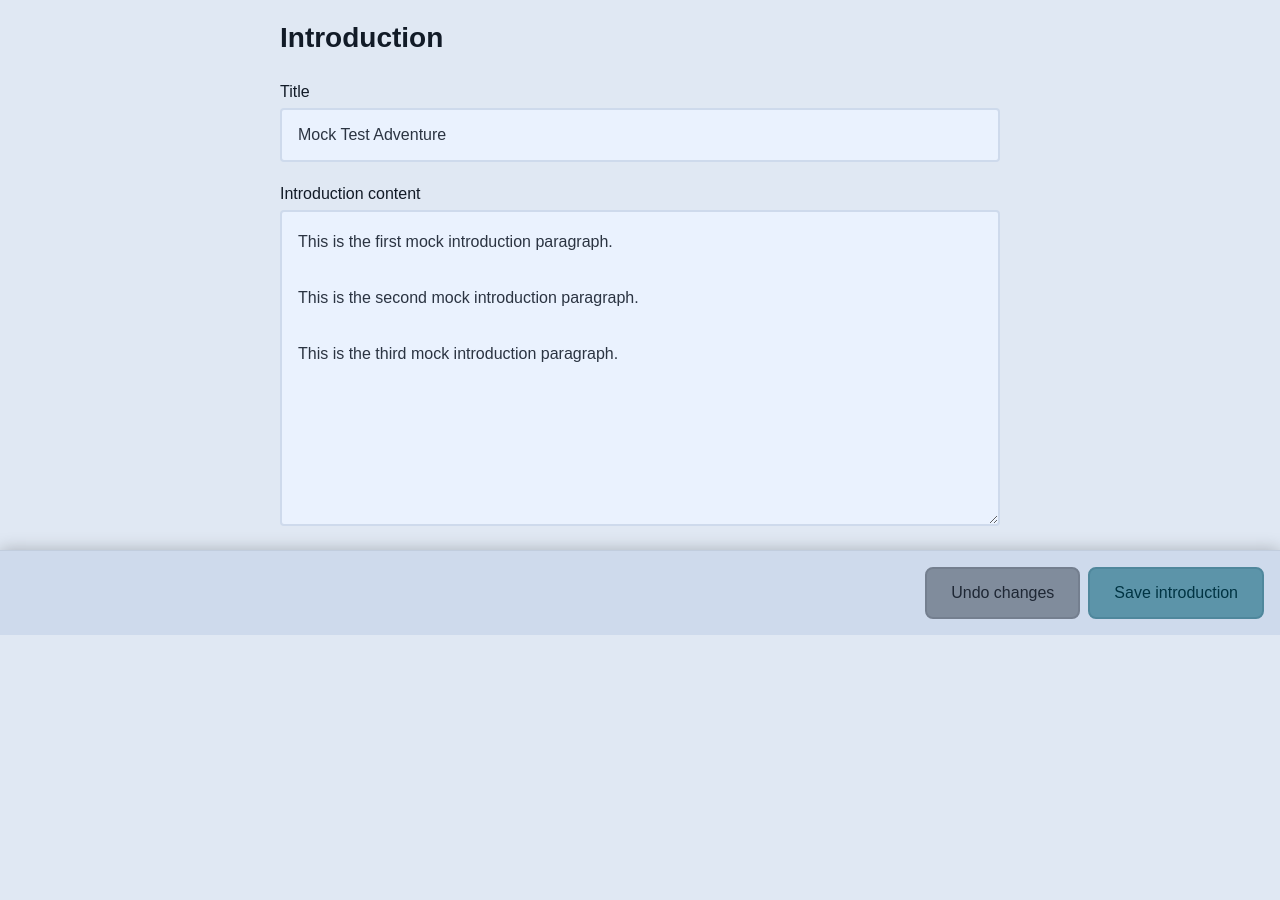
IntroductionEditView Component › Integration with useIntroductionEdit hook › clears errors when user types
Note: Trigger error
Clear the field with test id "introduction-title-input" at (640, 135), box top-left (280, 108), bottom-right (1000, 162)
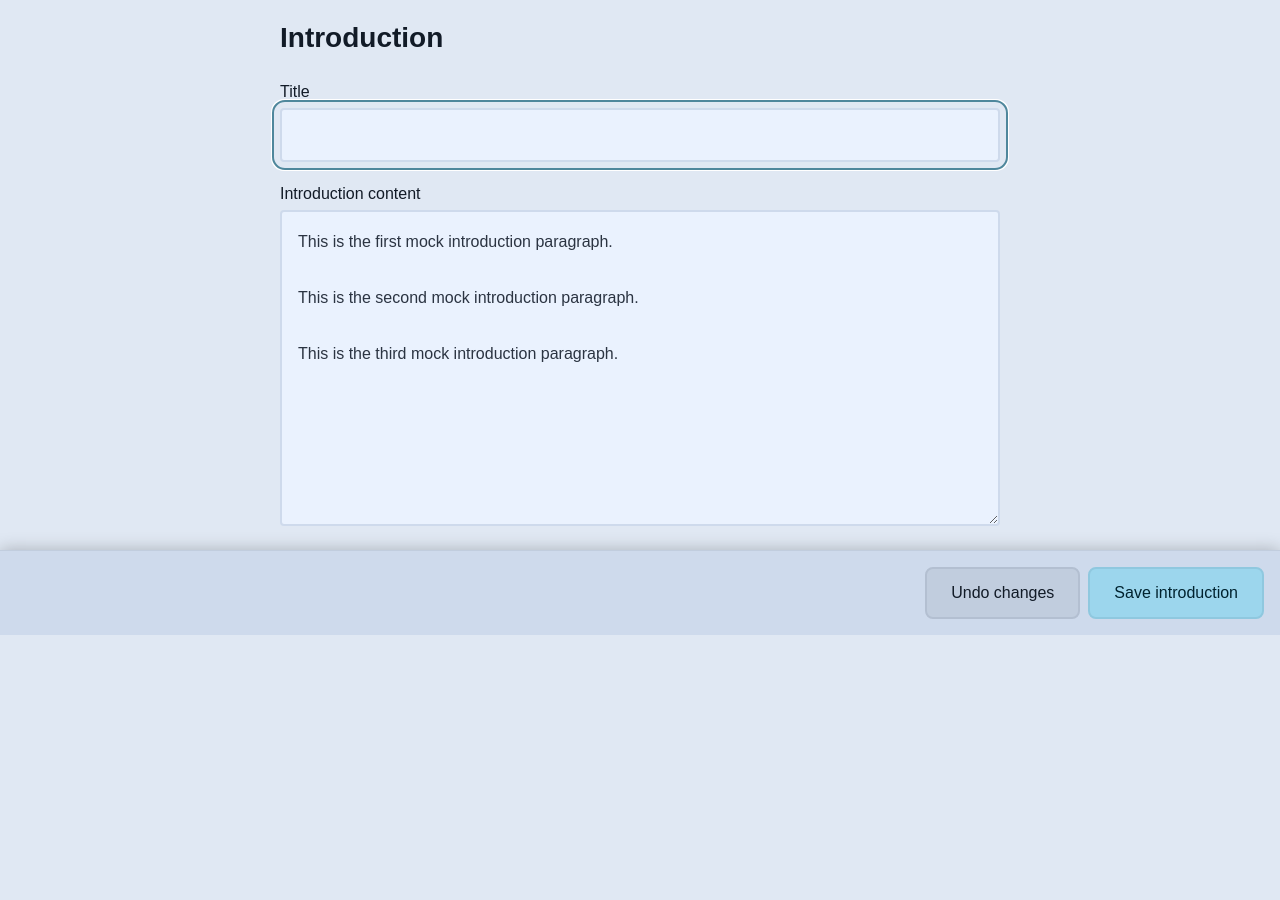
Click the button "Save introduction" at (1176, 593), box top-left (1088, 567), bottom-right (1264, 619)
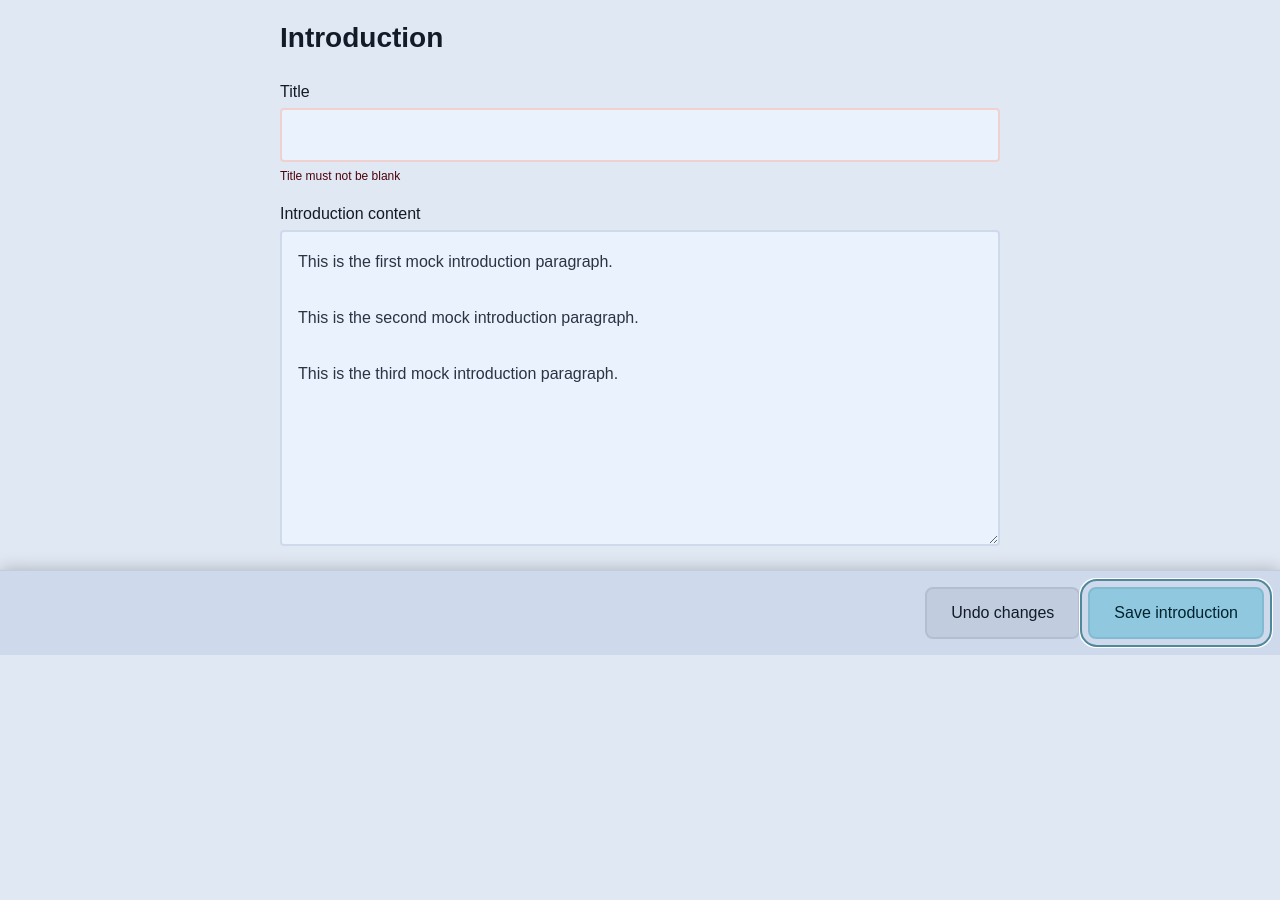
Expected: the text "Title must not be blank" is shown, top-left (280, 169), bottom-right (400, 183)
Note: Clear error by typing
Type "N" into the field with test id "introduction-title-input" at (640, 135), box top-left (280, 108), bottom-right (1000, 162)
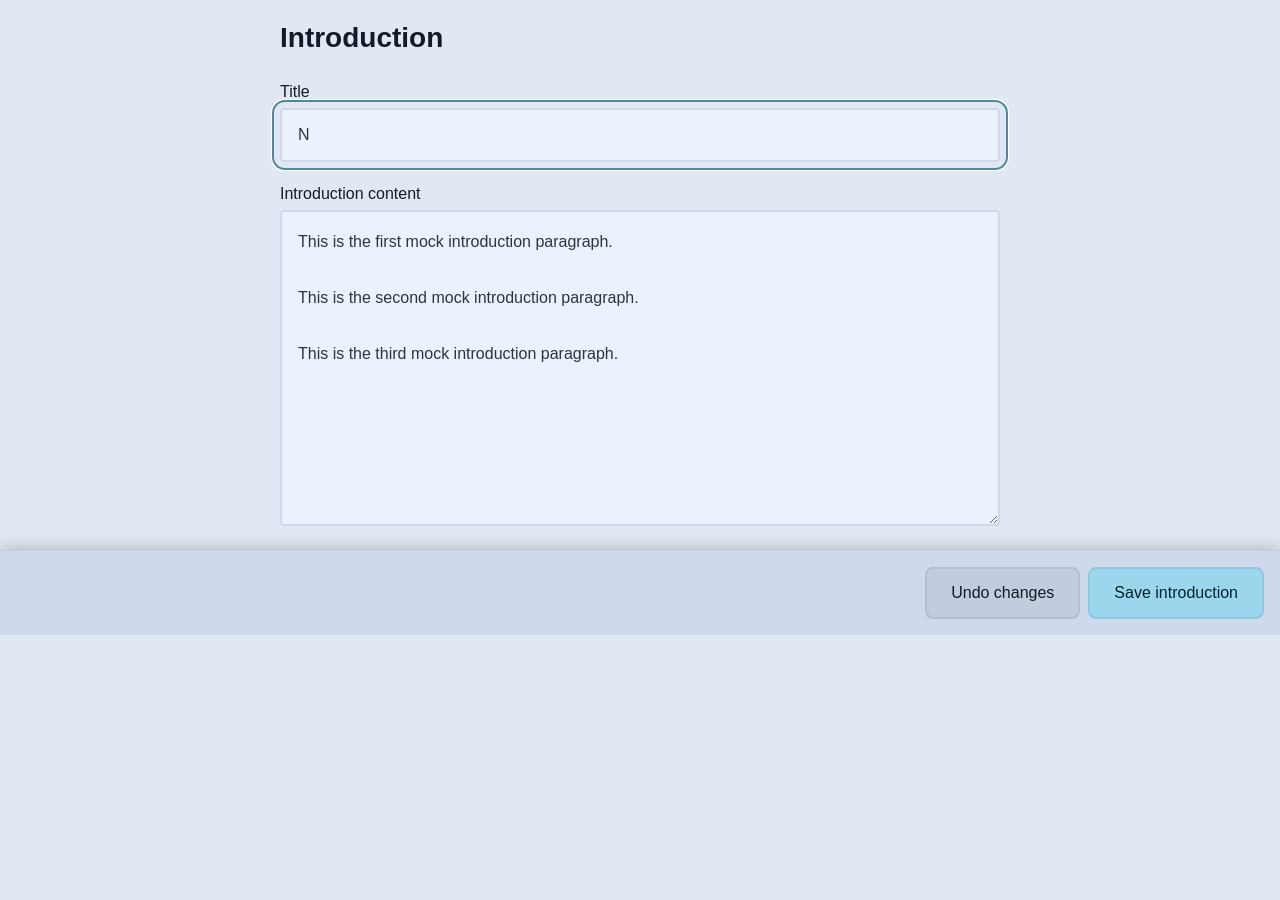
Expected: the text "Title must not be blank" is gone
